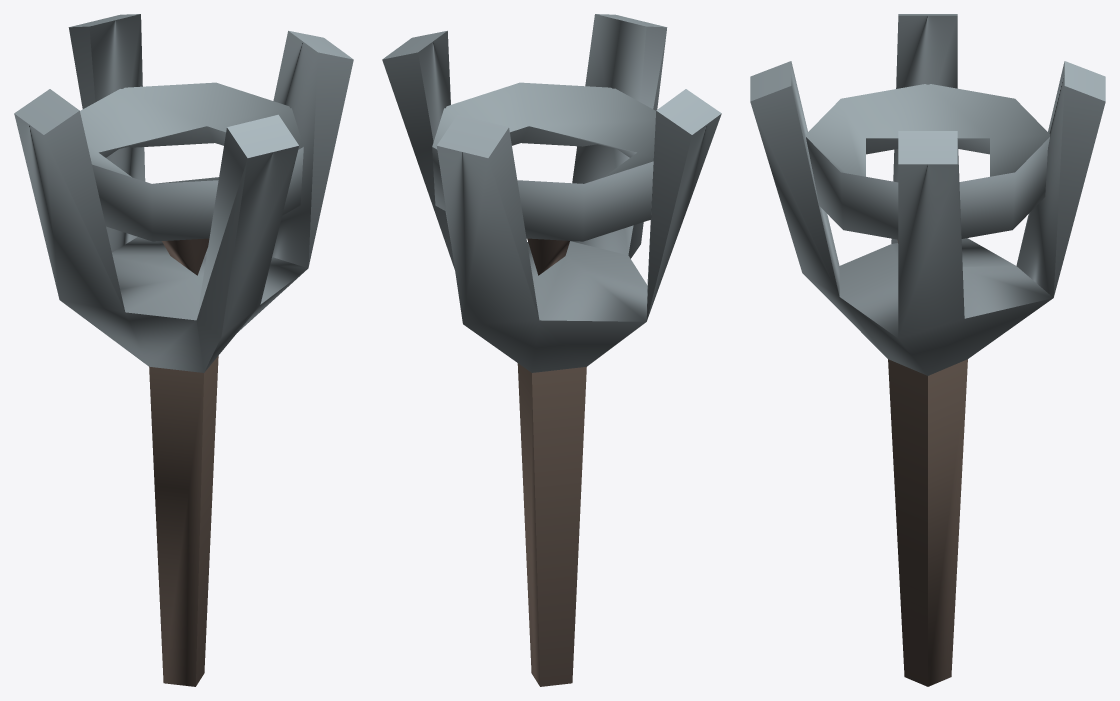
Rendered from torch-mid.glb.
3 renders of one model, left to right at view 1: azimuth 30°, elevation 25°; view 2: azimuth 150°, elevation 25°; view 3: azimuth 270°, elevation 25°, orthographic.
Visible parts, largest first — view 1: torch; view 2: torch; view 3: torch.
Part boxes in pixels (left/top/right/bottom): torch: left=14, top=14, right=353, bottom=686; torch: left=382, top=14, right=721, bottom=686; torch: left=750, top=14, right=1105, bottom=686.
Bounding box in the file's own units: 0.5503 × 1.03 × 0.5503.
Materials: 1 (1 with a texture image).
